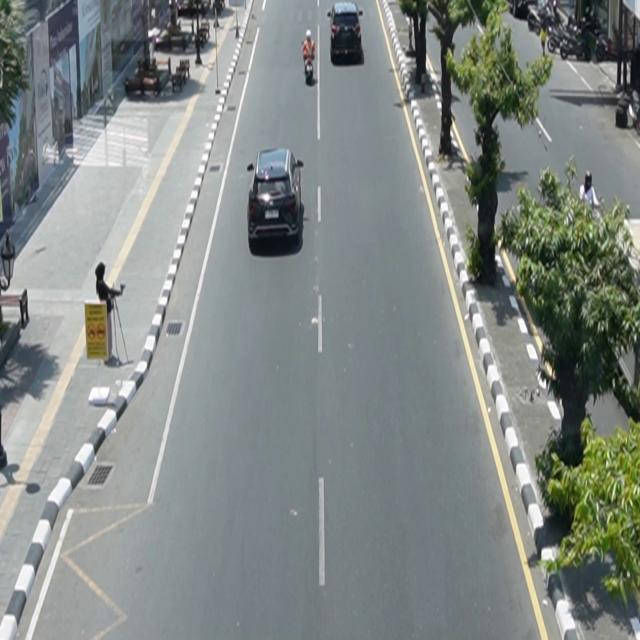car: (247, 148, 305, 246), (328, 2, 364, 65)
